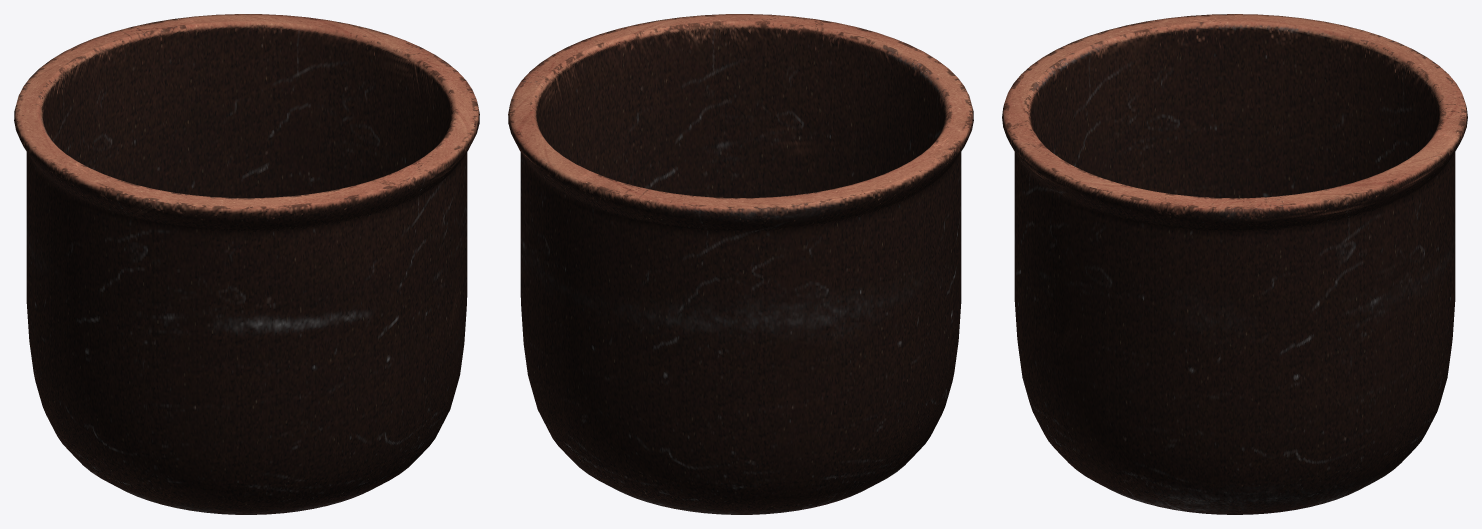
Rendered from SM_DarkBrownBowl.fbx.
3 renders of one model, left to right at view 1: azimuth 30°, elevation 25°; view 2: azimuth 150°, elevation 25°; view 3: azimuth 270°, elevation 25°, orthographic.
Visible parts, largest first — view 1: SM_DarkBrownBowl; view 2: SM_DarkBrownBowl; view 3: SM_DarkBrownBowl.
Boxes of the visible parts, x1,y1,x2,y2 form: SM_DarkBrownBowl: (14, 14, 479, 514); SM_DarkBrownBowl: (508, 14, 973, 514); SM_DarkBrownBowl: (1002, 14, 1467, 514).
Size of the model in its own units: 17.26 by 13.86 by 17.26.
1 material, 1 textured.
